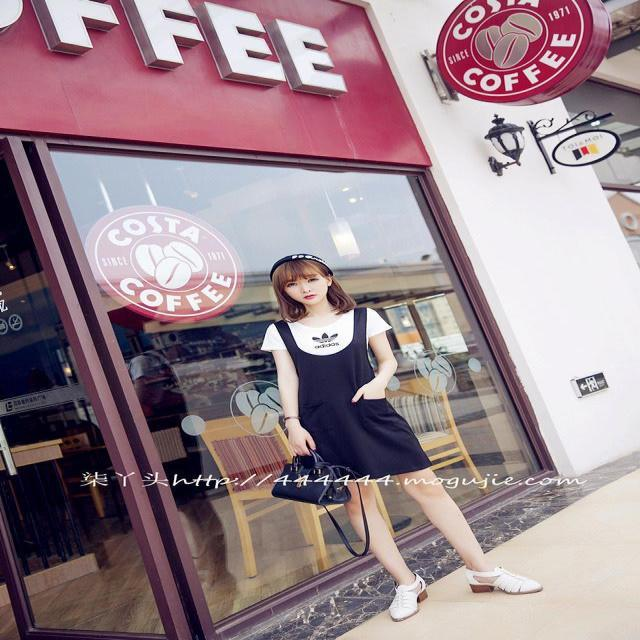short sleeve top: (262, 308, 393, 403)
vest dress: (275, 310, 433, 479)
